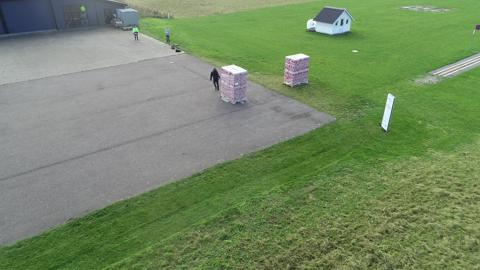RockwoolPallet: (221, 63, 248, 102)
